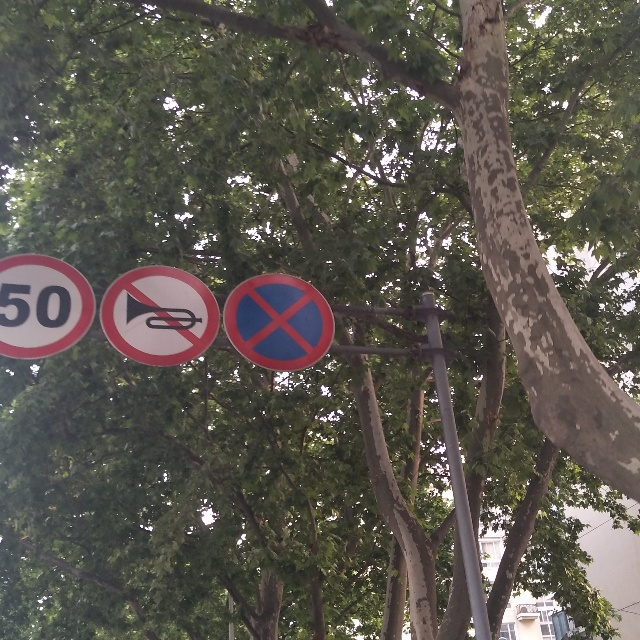nohonk: (96, 263, 221, 368)
stop: (223, 271, 342, 372)
